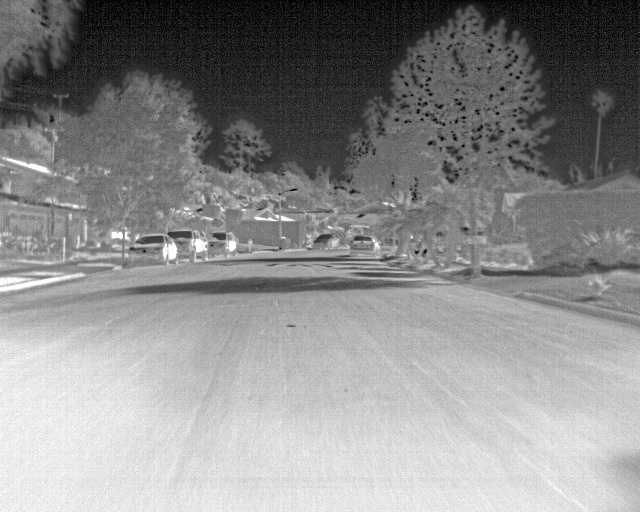vehicle: (129, 233, 175, 265), (173, 225, 209, 265), (209, 230, 240, 259), (346, 235, 383, 257)
